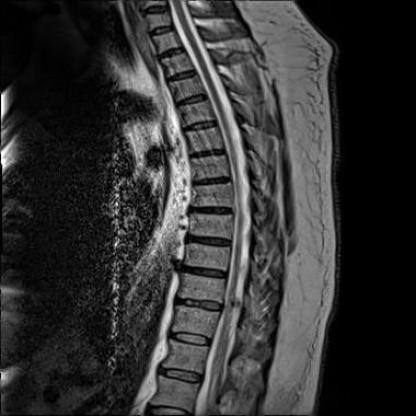Osteophytesrotation: (130, 1, 240, 416)
